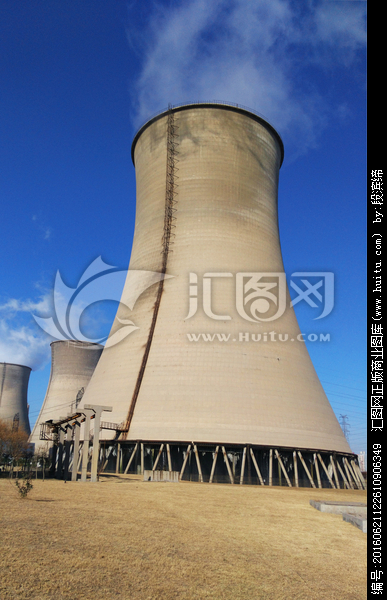dust: (132, 5, 352, 137), (3, 293, 53, 379)
